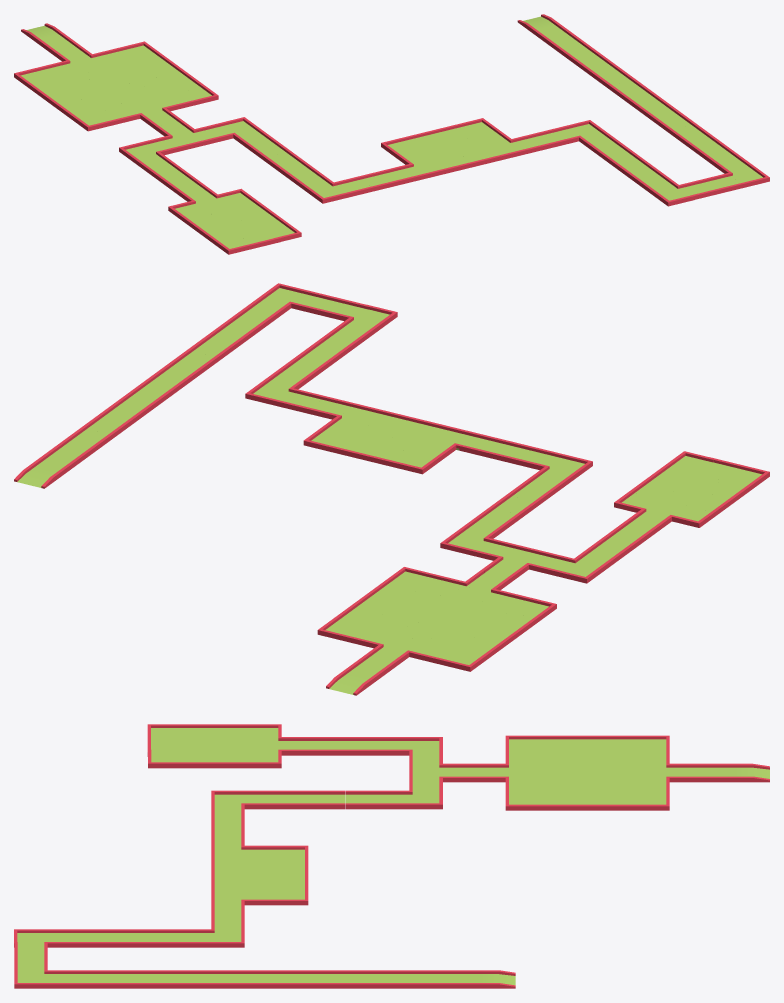
The model's file is golf-track-large.glb.
3 renders of one model, top to bottom at view 1: azimuth 30°, elevation 25°; view 2: azimuth 150°, elevation 25°; view 3: azimuth 270°, elevation 25°, orthographic. The views are drawn at different scales.
Visible parts, largest first — view 1: mergedBlocks(Clone).002; view 2: mergedBlocks(Clone).002; view 3: mergedBlocks(Clone).002.
Part boxes in pixels (<box>): mergedBlocks(Clone).002: <box>14,14,769,254</box>; mergedBlocks(Clone).002: <box>14,283,769,695</box>; mergedBlocks(Clone).002: <box>14,724,769,988</box>.
Size of the model in its own units: 276 by 2.2 by 339.
